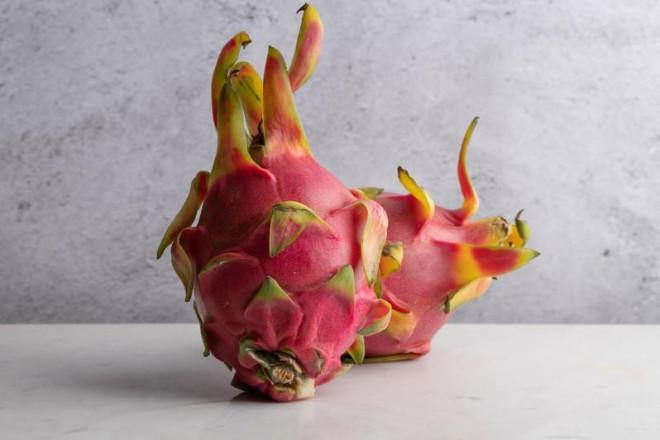dragon-fruit: (184, 156, 376, 403), (351, 184, 475, 361)
